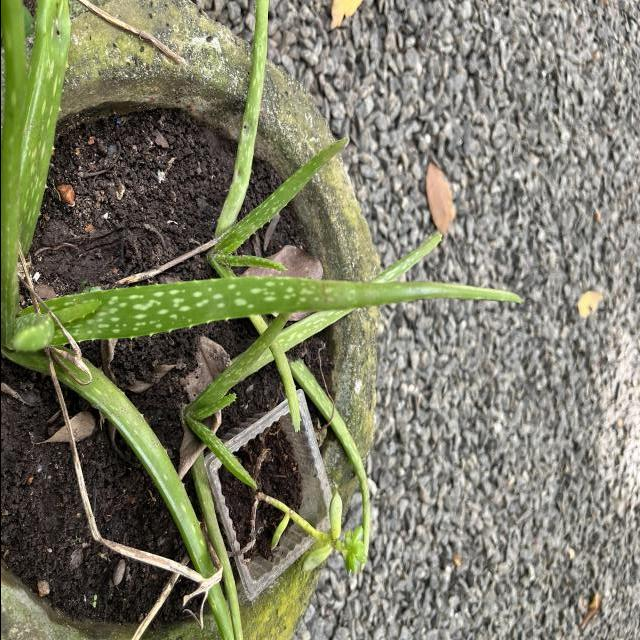Aloe vera: (52, 263, 526, 343)
